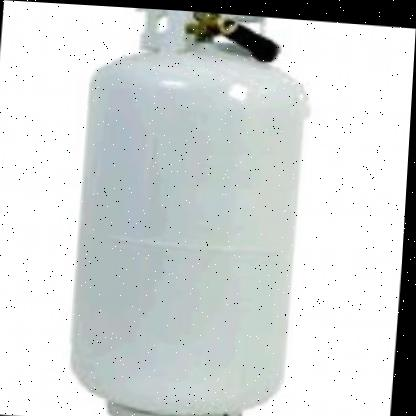gas-tank: (36, 2, 336, 415)
